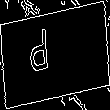P_S: (43, 27, 67, 83)
